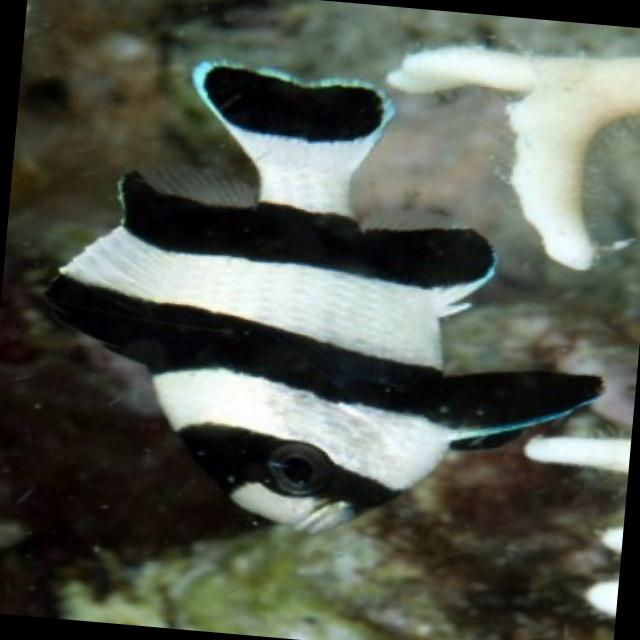ThreeStripedDamselfish: (46, 65, 607, 532)
